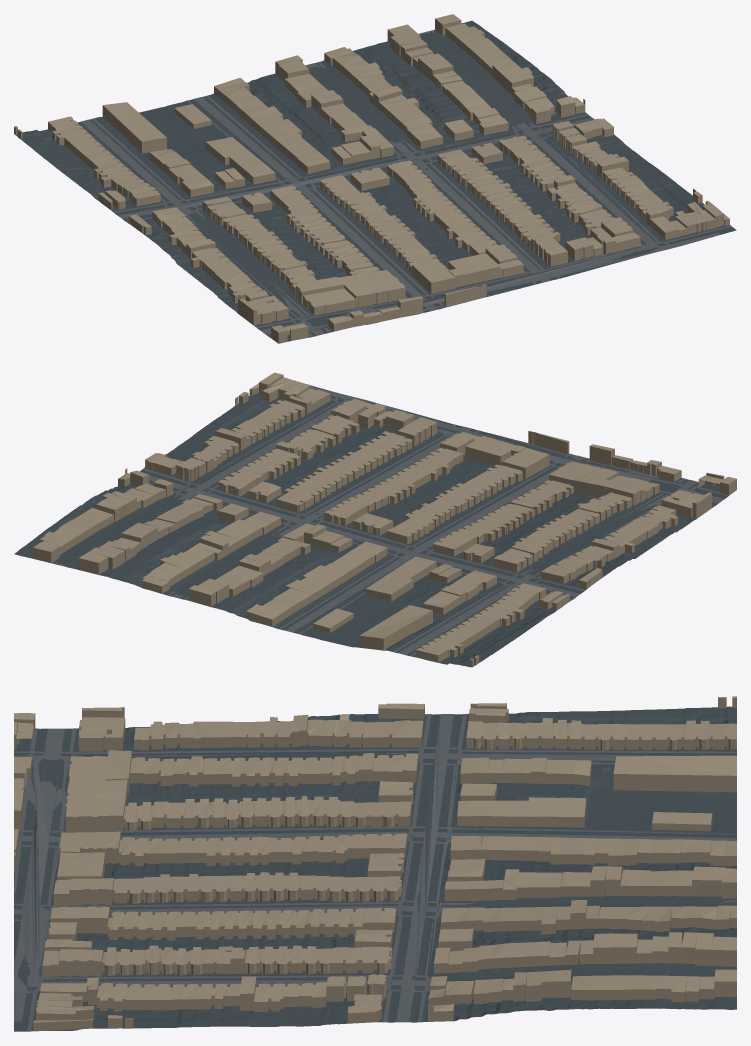
The model's file is epsg26910-1419-10883.lod0.glb.
3 views of the same model, one above another, from view 1: azimuth 30°, elevation 25°; view 2: azimuth 150°, elevation 25°; view 3: azimuth 270°, elevation 25° (orthographic). The views are drawn at different scales.
Parts seen in each view (by area): view 1: epsg26910-1419-10883-lod0; view 2: epsg26910-1419-10883-lod0; view 3: epsg26910-1419-10883-lod0.
Boxes of the visible parts, box(x1,y1,x2,y2) form: epsg26910-1419-10883-lod0: box(14, 14, 736, 343); epsg26910-1419-10883-lod0: box(14, 372, 736, 667); epsg26910-1419-10883-lod0: box(14, 696, 736, 1031).
Size of the model in its own units: 384 by 27.64 by 384.
